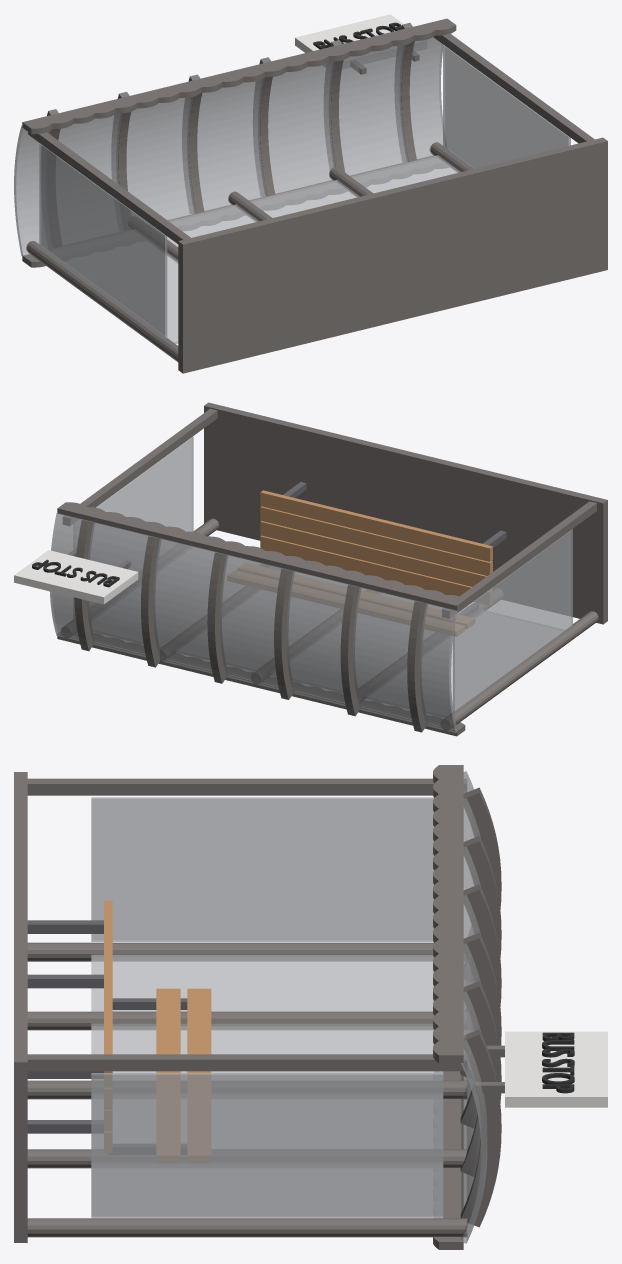
File: 34-bus-stop-shelter-bs7.glb
The picture shows the model from 3 angles, top to bottom: view 1: azimuth 30°, elevation 25°; view 2: azimuth 150°, elevation 25°; view 3: azimuth 270°, elevation 25°; orthographic projection. The views are drawn at different scales.
Parts seen in each view (by area): view 1: Base, Vault, EndGlass_L, RearGlass, EndGlass_R, TrimFront, TrimBack, RearPost_0, FrontPost_0, FrontPost_1, Blade, Rib_2 (+10 smaller); view 2: Vault, Base, RearGlass, EndGlass_L, EndGlass_R, TrimFront, TrimBack, SeatSlat_3, SeatSlat_2, Blade, SeatSlat_1, SeatSlat_0 (+16 smaller); view 3: RearGlass, EndGlass_R, EndGlass_L, TrimFront, RearPost_4, RearPost_0, FrontPost_1, FrontPost_0, RearPost_1, Base, Blade, Vault (+16 smaller).
Boxes of the visible parts, <box> form: Base: <box>178,137,607,373</box>; Vault: <box>14,37,446,255</box>; EndGlass_L: <box>39,143,167,337</box>; RearGlass: <box>49,155,460,343</box>; EndGlass_R: <box>443,45,570,168</box>; TrimFront: <box>22,18,456,134</box>; TrimBack: <box>22,155,448,267</box>; RearPost_0: <box>26,241,178,361</box>; FrontPost_0: <box>28,132,190,243</box>; FrontPost_1: <box>433,34,594,143</box>; Blade: <box>295,14,426,68</box>; Rib_2: <box>182,74,204,213</box>; Vault: <box>49,513,457,732</box>; Base: <box>204,402,607,624</box>; RearGlass: <box>91,546,563,716</box>; EndGlass_L: <box>453,529,572,711</box>; EndGlass_R: <box>74,436,193,618</box>; TrimFront: <box>57,502,465,610</box>; TrimBack: <box>57,632,465,736</box>; SeatSlat_3: <box>260,490,492,561</box>; SeatSlat_2: <box>260,506,492,575</box>; Blade: <box>14,550,138,604</box>; SeatSlat_1: <box>260,521,492,590</box>; SeatSlat_0: <box>260,535,492,605</box>; RearGlass: <box>91,954,443,1218</box>; EndGlass_R: <box>91,1073,443,1217</box>; EndGlass_L: <box>91,797,434,941</box>; TrimFront: <box>433,765,463,1062</box>; RearPost_4: <box>27,1218,467,1237</box>; RearPost_0: <box>27,942,433,961</box>; FrontPost_1: <box>27,1054,467,1071</box>; FrontPost_0: <box>27,778,467,795</box>; RearPost_1: <box>27,1011,466,1030</box>; Base: <box>14,772,27,1242</box>; Blade: <box>505,1031,607,1107</box>; Vault: <box>461,771,487,1243</box>.
Bounding box in the file's own units: 4 × 1.25 × 3.46.
